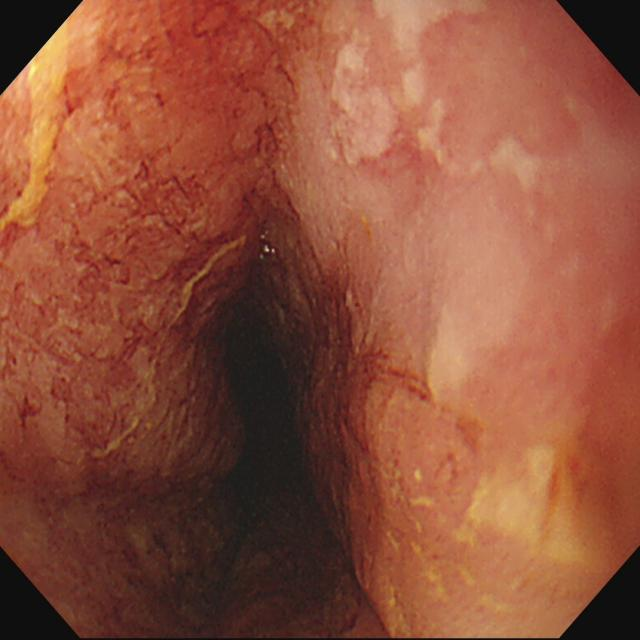A: (9, 246, 215, 478), (305, 275, 397, 560)
E: (238, 341, 294, 434)
J: (330, 2, 543, 191), (451, 439, 592, 564), (2, 21, 70, 231)
